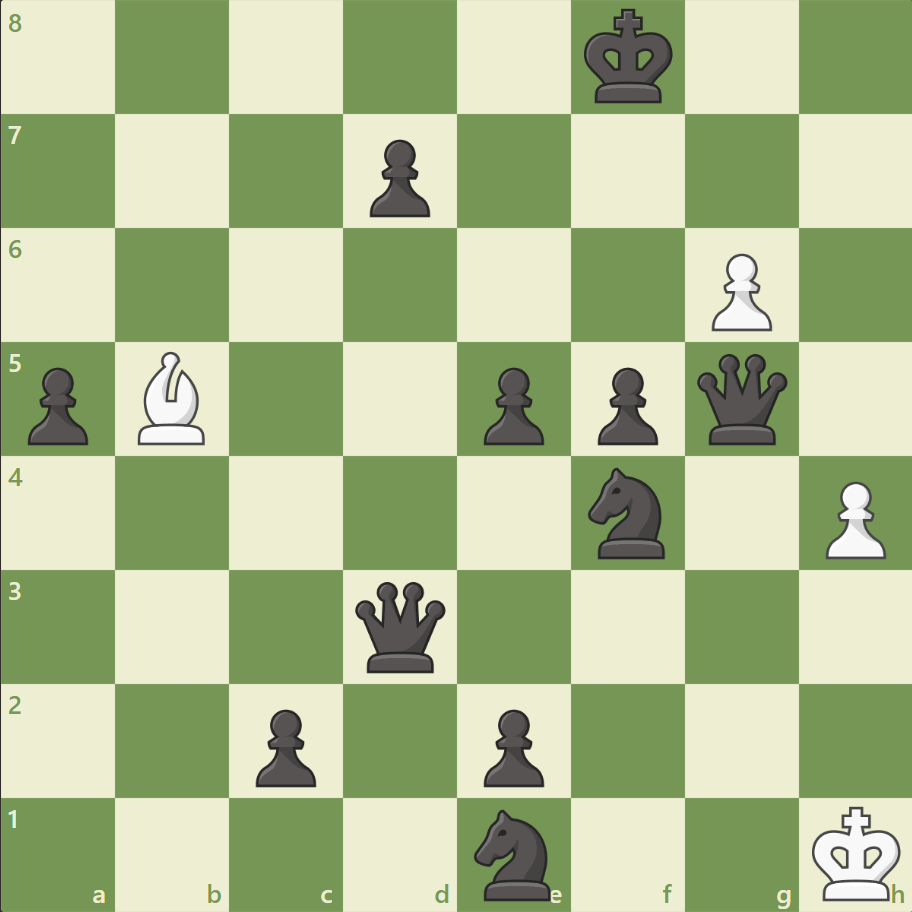B: (131, 347, 215, 449)
K: (806, 798, 906, 906)
P: (701, 246, 776, 337), (815, 473, 889, 564)
k: (579, 4, 679, 112)
n: (579, 461, 676, 564), (465, 802, 562, 904)
p: (20, 359, 95, 450), (474, 359, 549, 450), (247, 700, 322, 791), (474, 700, 549, 791), (361, 132, 435, 223), (588, 359, 662, 450)
q: (691, 349, 790, 449), (351, 576, 450, 676)
